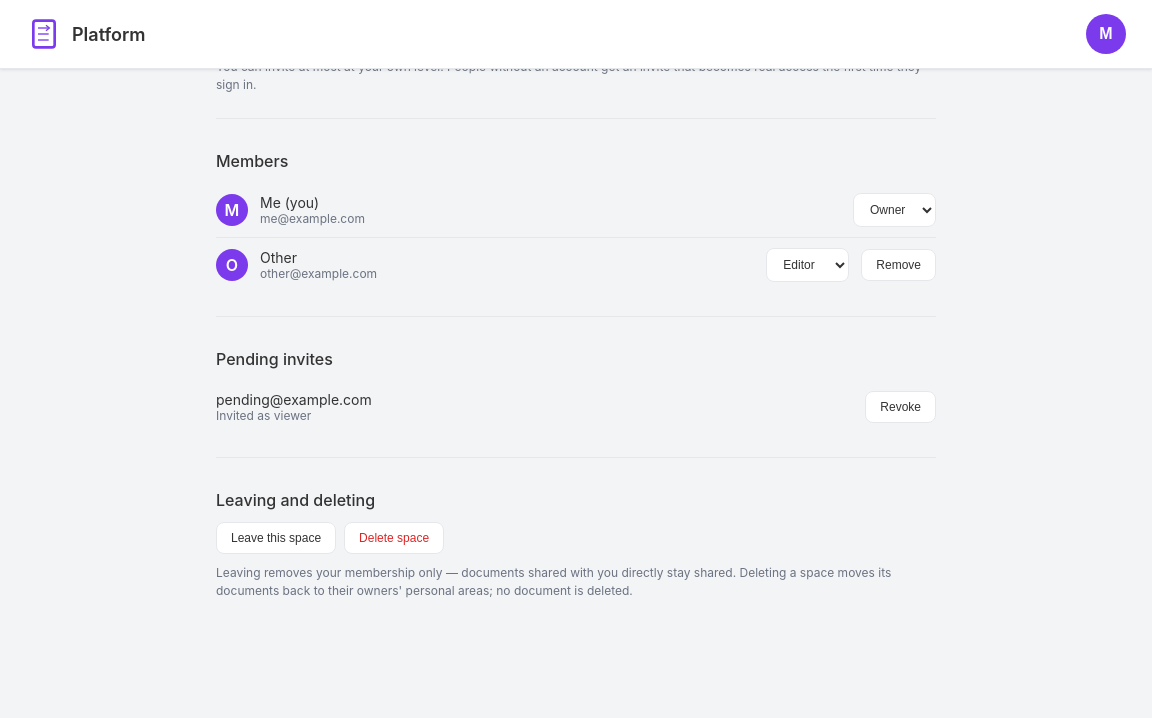
Test: SpaceSettingsPage › surfaces the last-owner guidance verbatim when leaving is refused
(page scrolled)
Click the button "Leave this space": (276, 538) x1=216 y1=522 x2=336 y2=554
(page scrolled)
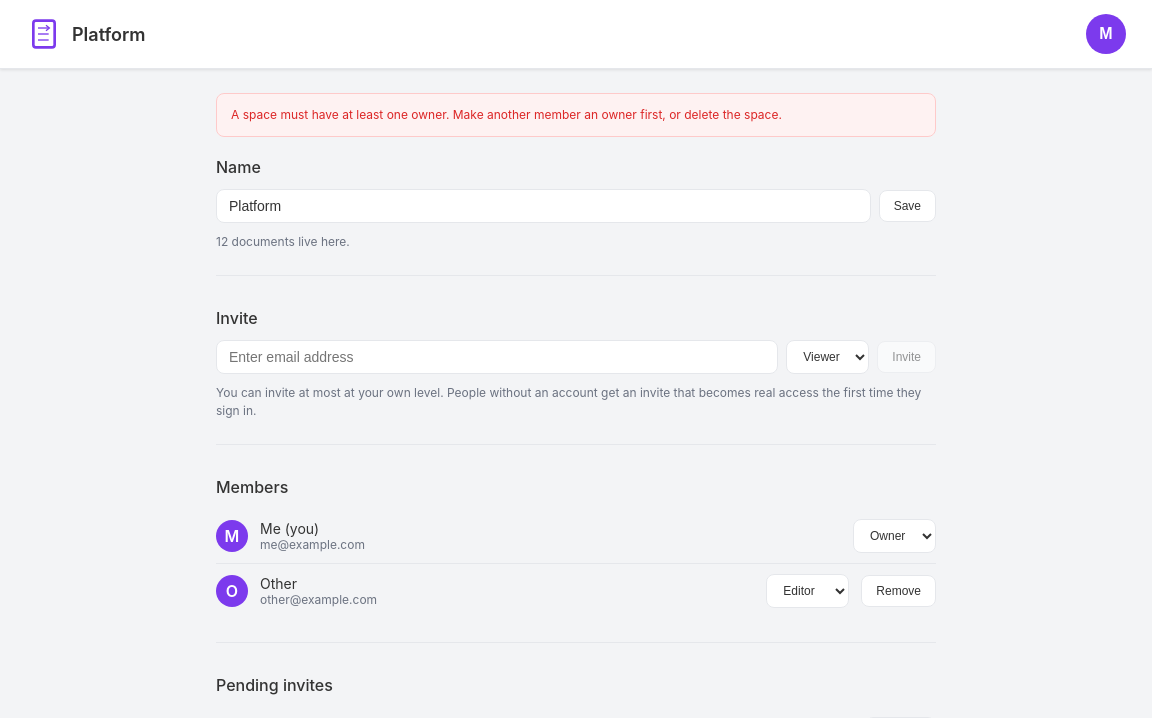
Expected: the message shows "A space must have at least one owner. Make another member an owner first, or delete the space.", x1=231 y1=107 x2=782 y2=122
